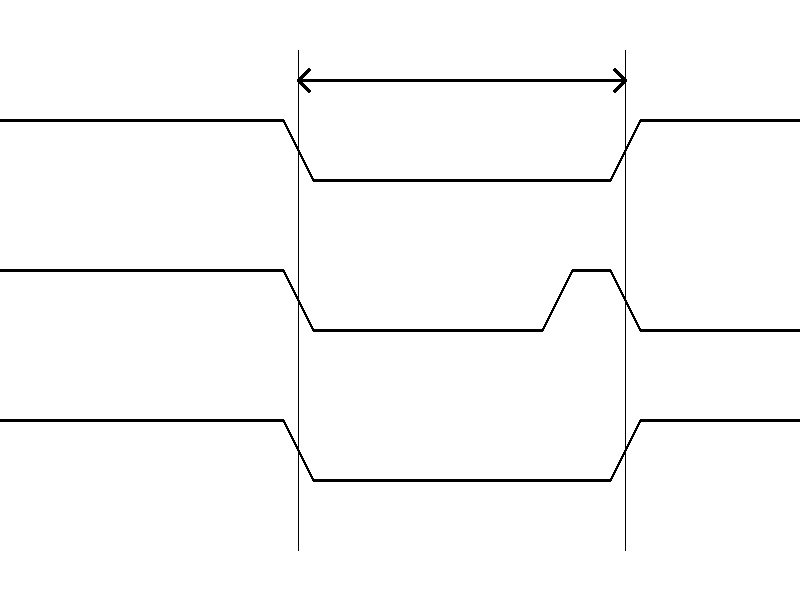double_arrow: (298, 65, 625, 95)
